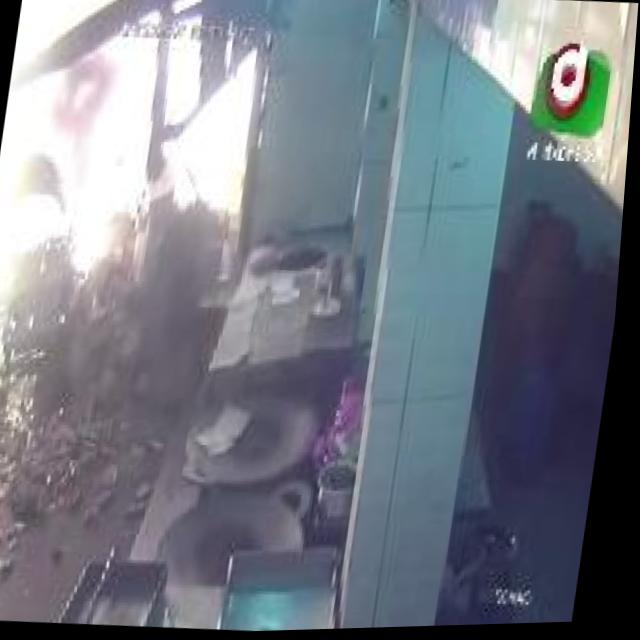fire: (45, 0, 278, 317), (0, 0, 122, 407)
